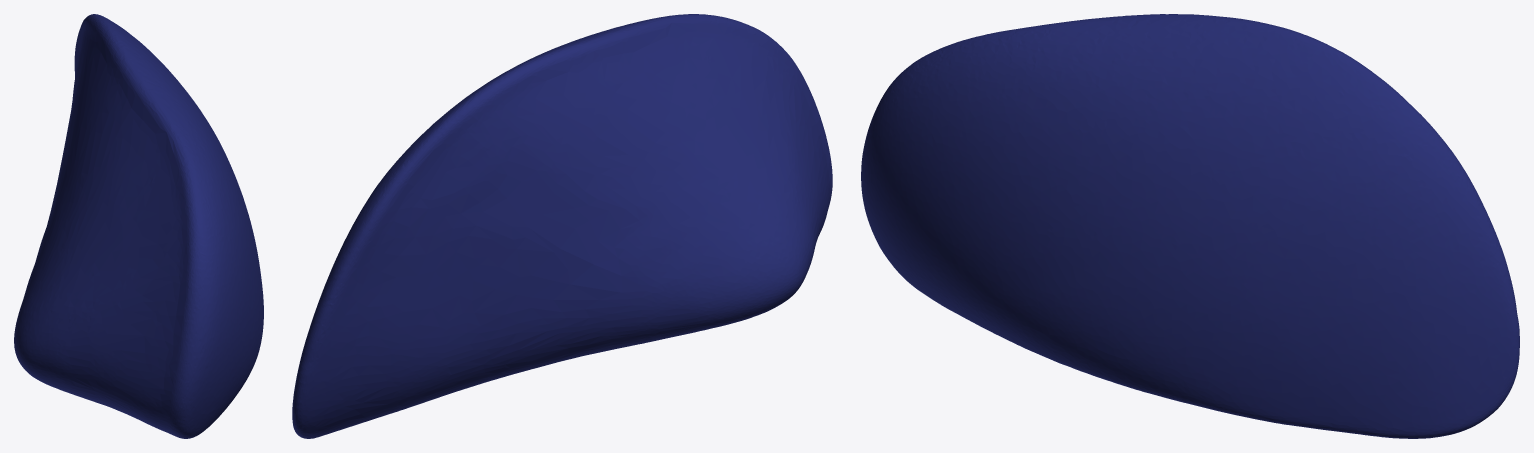
Rendered from Left_globus_pallidus1.obj.
3 renders of one model, left to right at view 1: azimuth 30°, elevation 25°; view 2: azimuth 150°, elevation 25°; view 3: azimuth 270°, elevation 25°, orthographic. The views are drawn at different scales.
Parts seen in each view (by area): view 1: obj0; view 2: obj0; view 3: obj0.
Boxes of the visible parts, <box> form: obj0: <box>14,14,263,438</box>; obj0: <box>292,14,832,438</box>; obj0: <box>861,14,1519,438</box>.
Size of the model in its own units: 7.98 by 8.25 by 13.96.
1 material, 1 textured.
